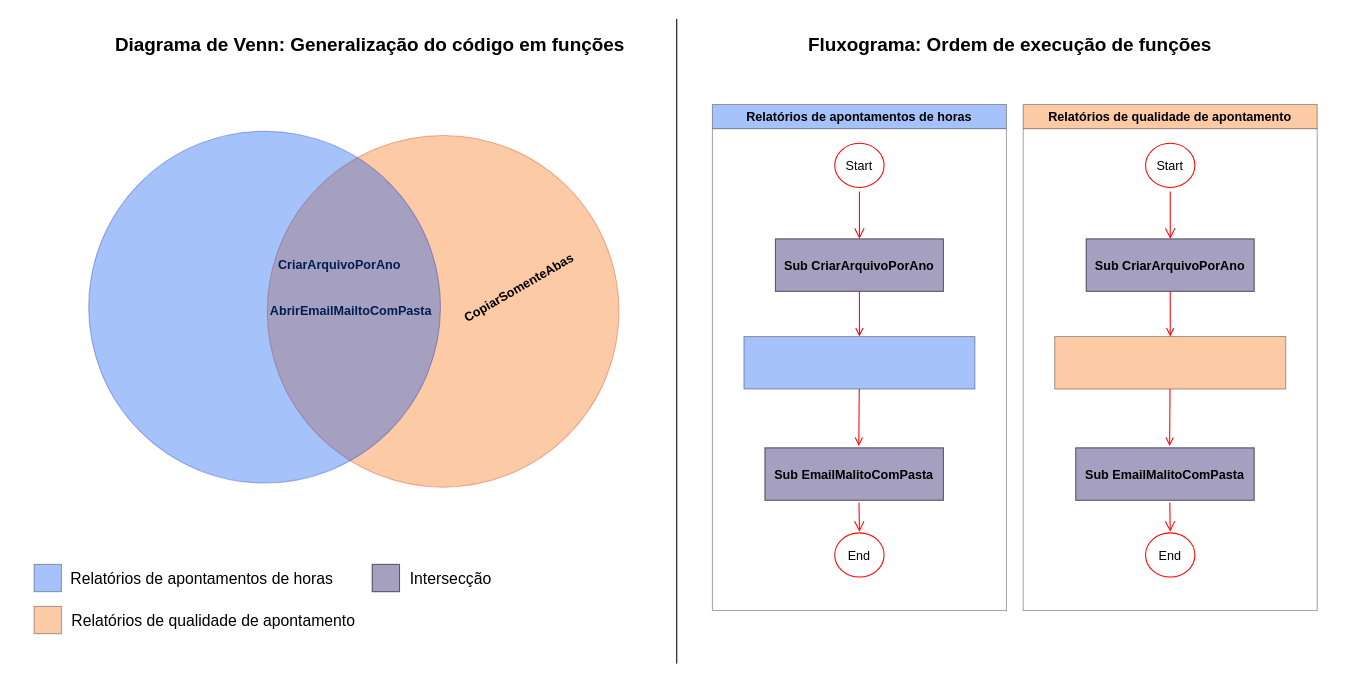
Image size: 1367x684. Some labels were removed from this diagram. Here are the shapes that lost their labels. From the top down, the centre of each, then its label:
At (264,306): "CopiarAbaEColarTabelaFiltrada".
At (859,362): "Sub CopiarAbaEcolarTabelaFilltrada".
At (1170,362): "Sub CopiarSomenteAbas".
